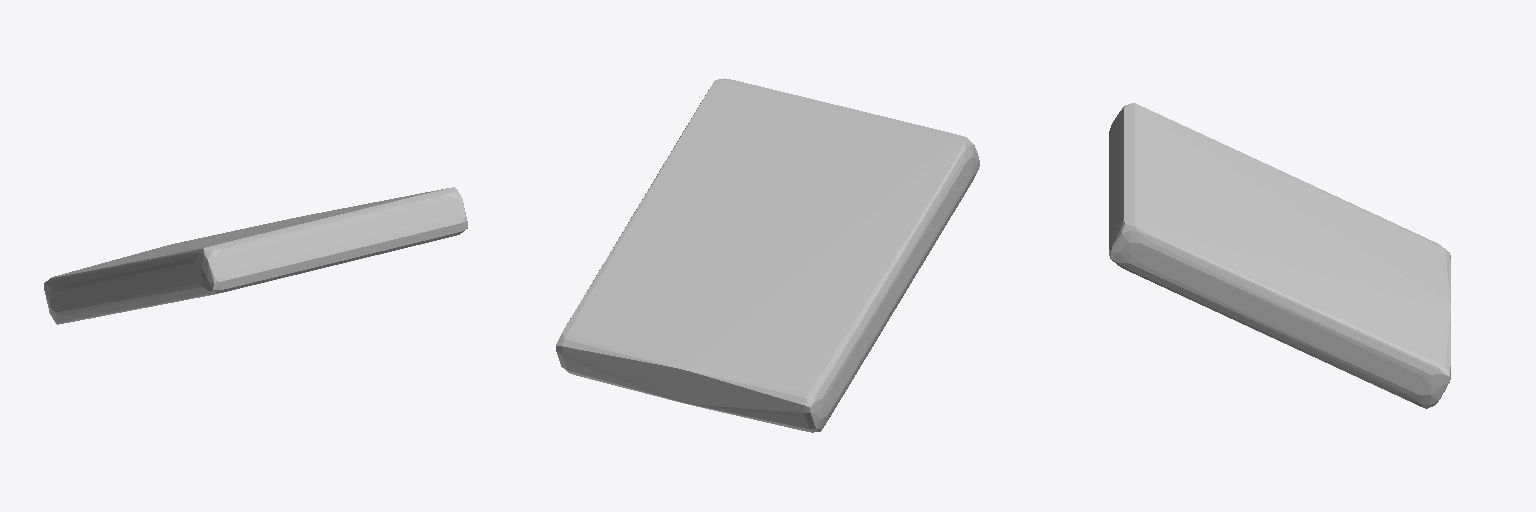
Rendered from spatula_plate.obj.
3 views of the same model, side by side, from view 1: azimuth 30°, elevation 25°; view 2: azimuth 150°, elevation 25°; view 3: azimuth 270°, elevation 25° (orthographic).
Parts seen in each view (by area): view 1: spatula_plate_spatula_plate.001; view 2: spatula_plate_spatula_plate.001; view 3: spatula_plate_spatula_plate.001.
Part boxes in pixels (bbox=[...]): spatula_plate_spatula_plate.001: bbox=[44, 187, 467, 324]; spatula_plate_spatula_plate.001: bbox=[556, 78, 979, 432]; spatula_plate_spatula_plate.001: bbox=[1109, 103, 1450, 408].
Bounding box in the file's own units: 0.0834 × 0.0562 × 0.0949.